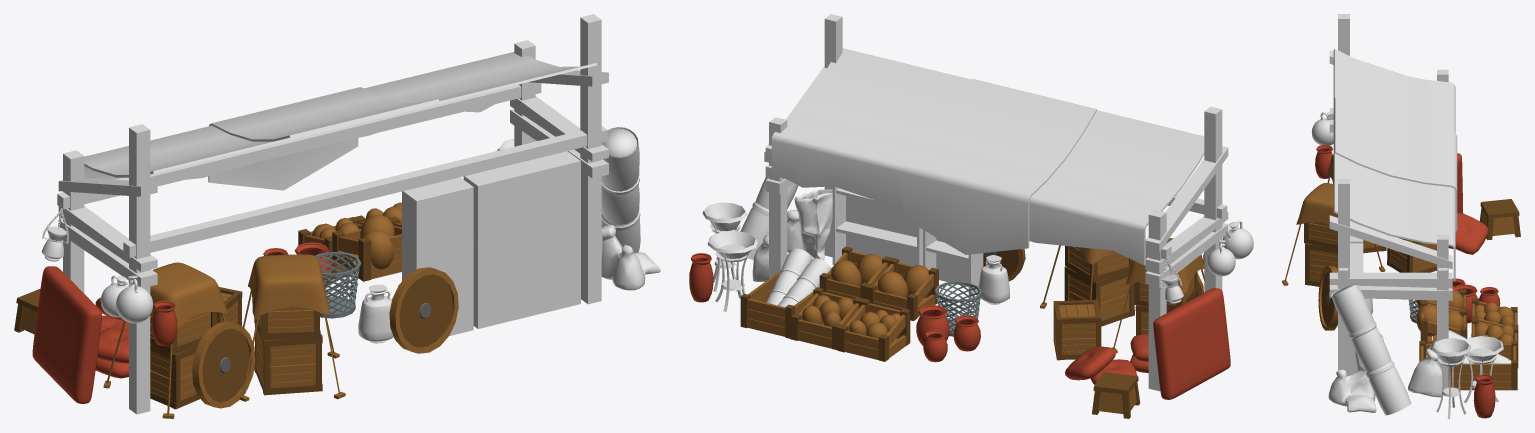
File: Proxy_Side Merchant_01.fbx
3 views of the same model, side by side, from view 1: azimuth 30°, elevation 25°; view 2: azimuth 150°, elevation 25°; view 3: azimuth 270°, elevation 25° (orthographic). The views are drawn at different scales.
Parts seen in each view (by area): view 1: Cube.023, Plane, Proxy_Collection_Crate_A01.002, Cube.005, Plane.001, Cube.020, Cube.024, Proxy_Collection_Crate_A01.001, Proxy_Majlis_A02.001, Cube.015, Proxy_Wheel.002, Proxy_Wheel.001 (+17 smaller); view 2: Plane, Plane.001, Proxy_Majlis_A02.001, Proxy_Collection_Crate_A01.002, Cube.023, Cube, Cube.005, Proxy_Crate_C02.001, Proxy_Crate_C01.001, Proxy_Crate_C03.001, Proxy_Crate_A01.001, Proxy_Crate_C01.003 (+26 smaller); view 3: Plane, Plane.001, Proxy_ClothStack.001, Proxy_Collection_Crate_A01.002, Cube.005, Proxy_Crate_B01.001, Cube.007, Cube.008, Proxy_Sack_B03.001, Proxy_Brazier_A01.001, Cube.009, Proxy_Chair.001 (+19 smaller).
Part boxes in pixels (x1=…): Cube.023: x1=463, y1=151, x2=580, y2=328; Plane: x1=84, y1=52, x2=596, y2=179; Proxy_Collection_Crate_A01.002: x1=239, y1=254, x2=345, y2=401; Cube.005: x1=129, y1=14, x2=601, y2=414; Plane.001: x1=208, y1=87, x2=438, y2=190; Cube.020: x1=123, y1=126, x2=607, y2=257; Cube.024: x1=402, y1=177, x2=473, y2=335; Proxy_Collection_Crate_A01.001: x1=103, y1=262, x2=245, y2=418; Proxy_Majlis_A02.001: x1=32, y1=266, x2=101, y2=403; Cube.015: x1=57, y1=83, x2=541, y2=209; Proxy_Wheel.002: x1=389, y1=267, x2=458, y2=353; Proxy_Wheel.001: x1=192, y1=321, x2=255, y2=408; Plane: x1=771, y1=48, x2=1204, y2=265; Plane.001: x1=903, y1=78, x2=1096, y2=254; Proxy_Majlis_A02.001: x1=1153, y1=288, x2=1230, y2=399; Proxy_Collection_Crate_A01.002: x1=1040, y1=245, x2=1134, y2=326; Cube.023: x1=832, y1=186, x2=922, y2=265; Cube: x1=769, y1=117, x2=1166, y2=391; Cube.005: x1=824, y1=14, x2=1222, y2=292; Proxy_Crate_C02.001: x1=837, y1=298, x2=910, y2=361; Proxy_Crate_C01.001: x1=866, y1=258, x2=938, y2=320; Proxy_Crate_C03.001: x1=791, y1=287, x2=863, y2=350; Proxy_Crate_A01.001: x1=1053, y1=299, x2=1101, y2=360; Proxy_Crate_C01.003: x1=819, y1=246, x2=891, y2=299; Plane: x1=1333, y1=49, x2=1455, y2=280; Plane.001: x1=1334, y1=97, x2=1457, y2=231; Proxy_ClothStack.001: x1=1331, y1=283, x2=1411, y2=415; Proxy_Collection_Crate_A01.002: x1=1282, y1=183, x2=1385, y2=286; Cube.005: x1=1338, y1=14, x2=1349, y2=376; Proxy_Crate_B01.001: x1=1419, y1=341, x2=1517, y2=390; Cube.007: x1=1329, y1=50, x2=1452, y2=269; Cube.008: x1=1329, y1=108, x2=1452, y2=288; Proxy_Sack_B03.001: x1=1328, y1=362, x2=1376, y2=412; Proxy_Brazier_A01.001: x1=1431, y1=338, x2=1471, y2=418; Cube.009: x1=1329, y1=120, x2=1452, y2=300; Proxy_Chair.001: x1=1480, y1=199, x2=1520, y2=240.
Size of the model in its own units: 2550 by 1224 by 1228.
